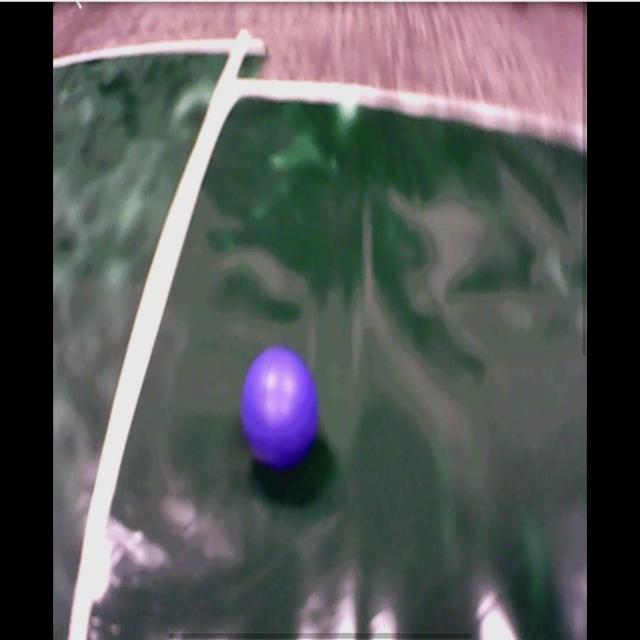ball: (244, 343, 318, 474)
